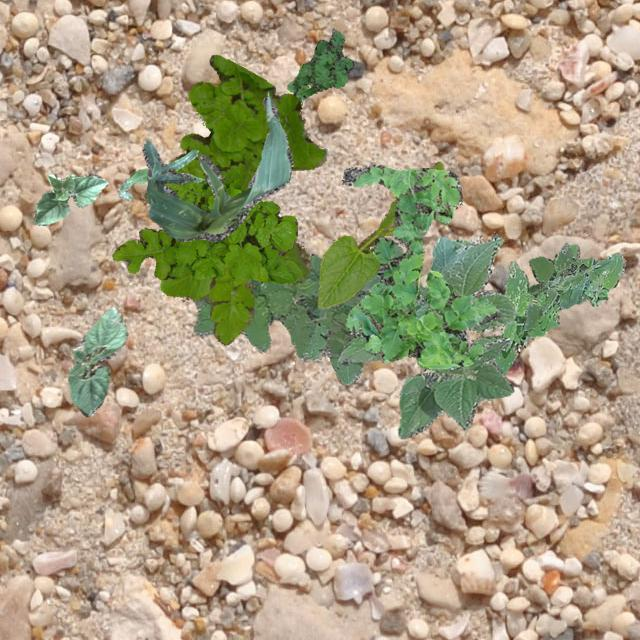crop: (336, 233, 514, 438), (142, 92, 292, 240), (316, 160, 442, 308), (66, 306, 126, 416), (115, 148, 204, 200), (32, 172, 106, 225)
weed: (160, 54, 326, 344), (192, 240, 426, 384), (342, 164, 500, 368), (112, 166, 300, 282), (476, 244, 624, 374), (522, 242, 610, 332), (286, 28, 352, 98)
